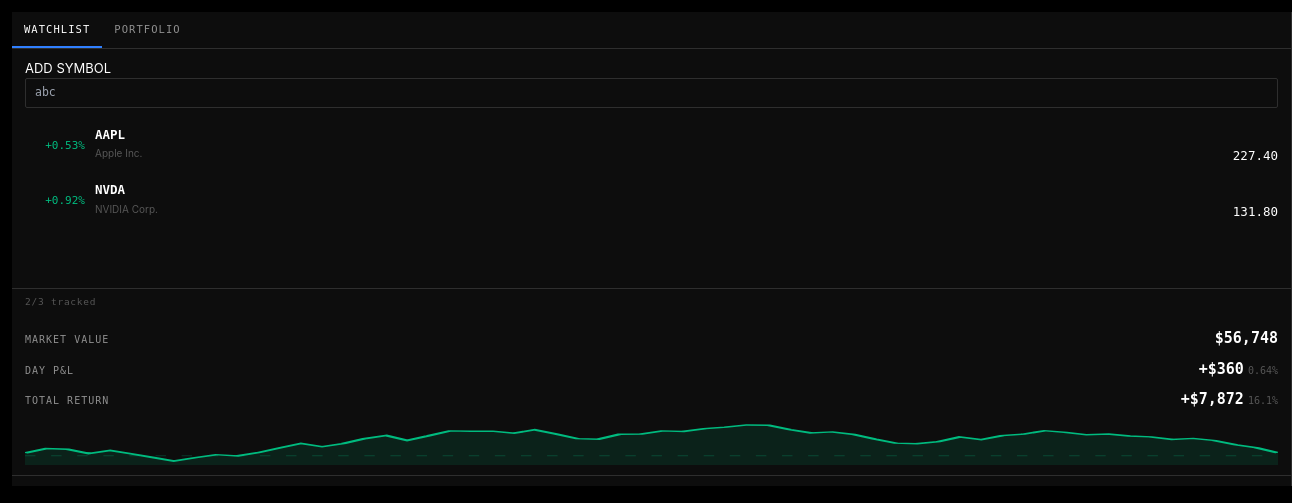
WatchlistPanel › shows a portfolio view matching the original #pview structure
Expected: the element that starts with "Market value" is shown, [12,315,1291,486]
What coordinates should you click on to do the following:
click the tab with test id "portfolio-tab"
I would click on:
 (147, 30)
Its box is [102,12,193,48].
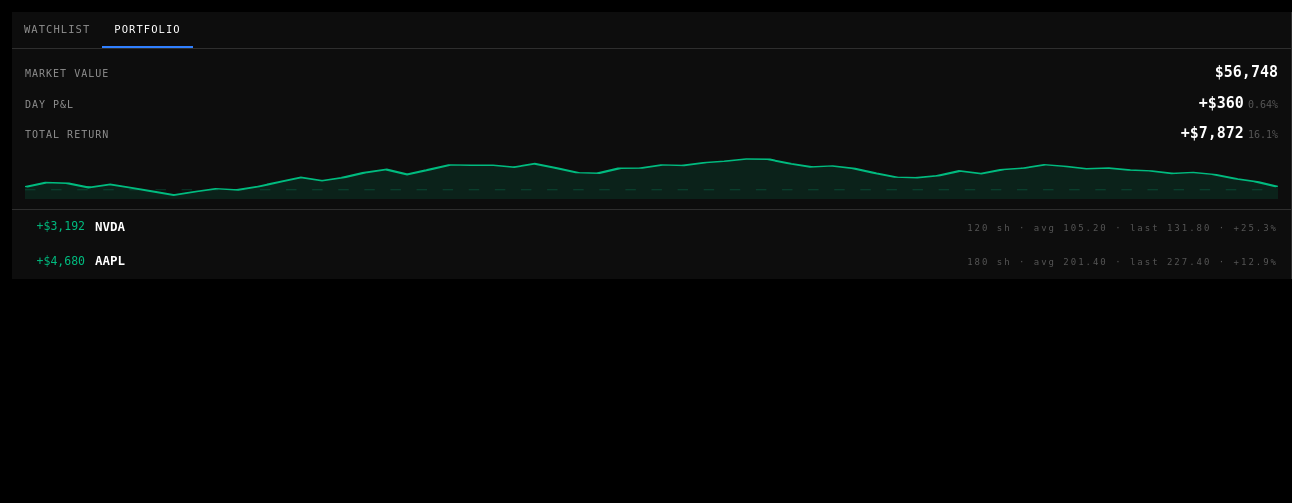
Result: the number of elements with test id "portfolio-row" is 2 at [36,219,1278,234]; [36,253,1278,268]
Result: the element with test id "portfolio-row" shows "NVDA" at [95,219,125,234]
Result: the element with test id "portfolio-row" shows "120 sh" at [36,219,1278,234]
